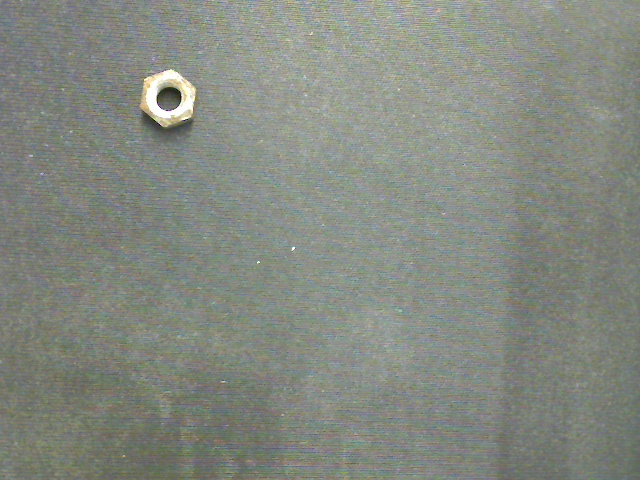Nut: (140, 68, 196, 130)
